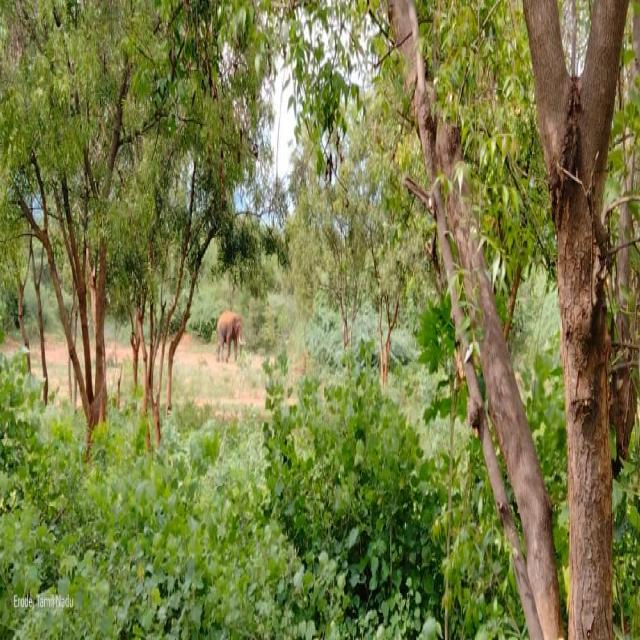Elephant: (215, 310, 243, 364)
